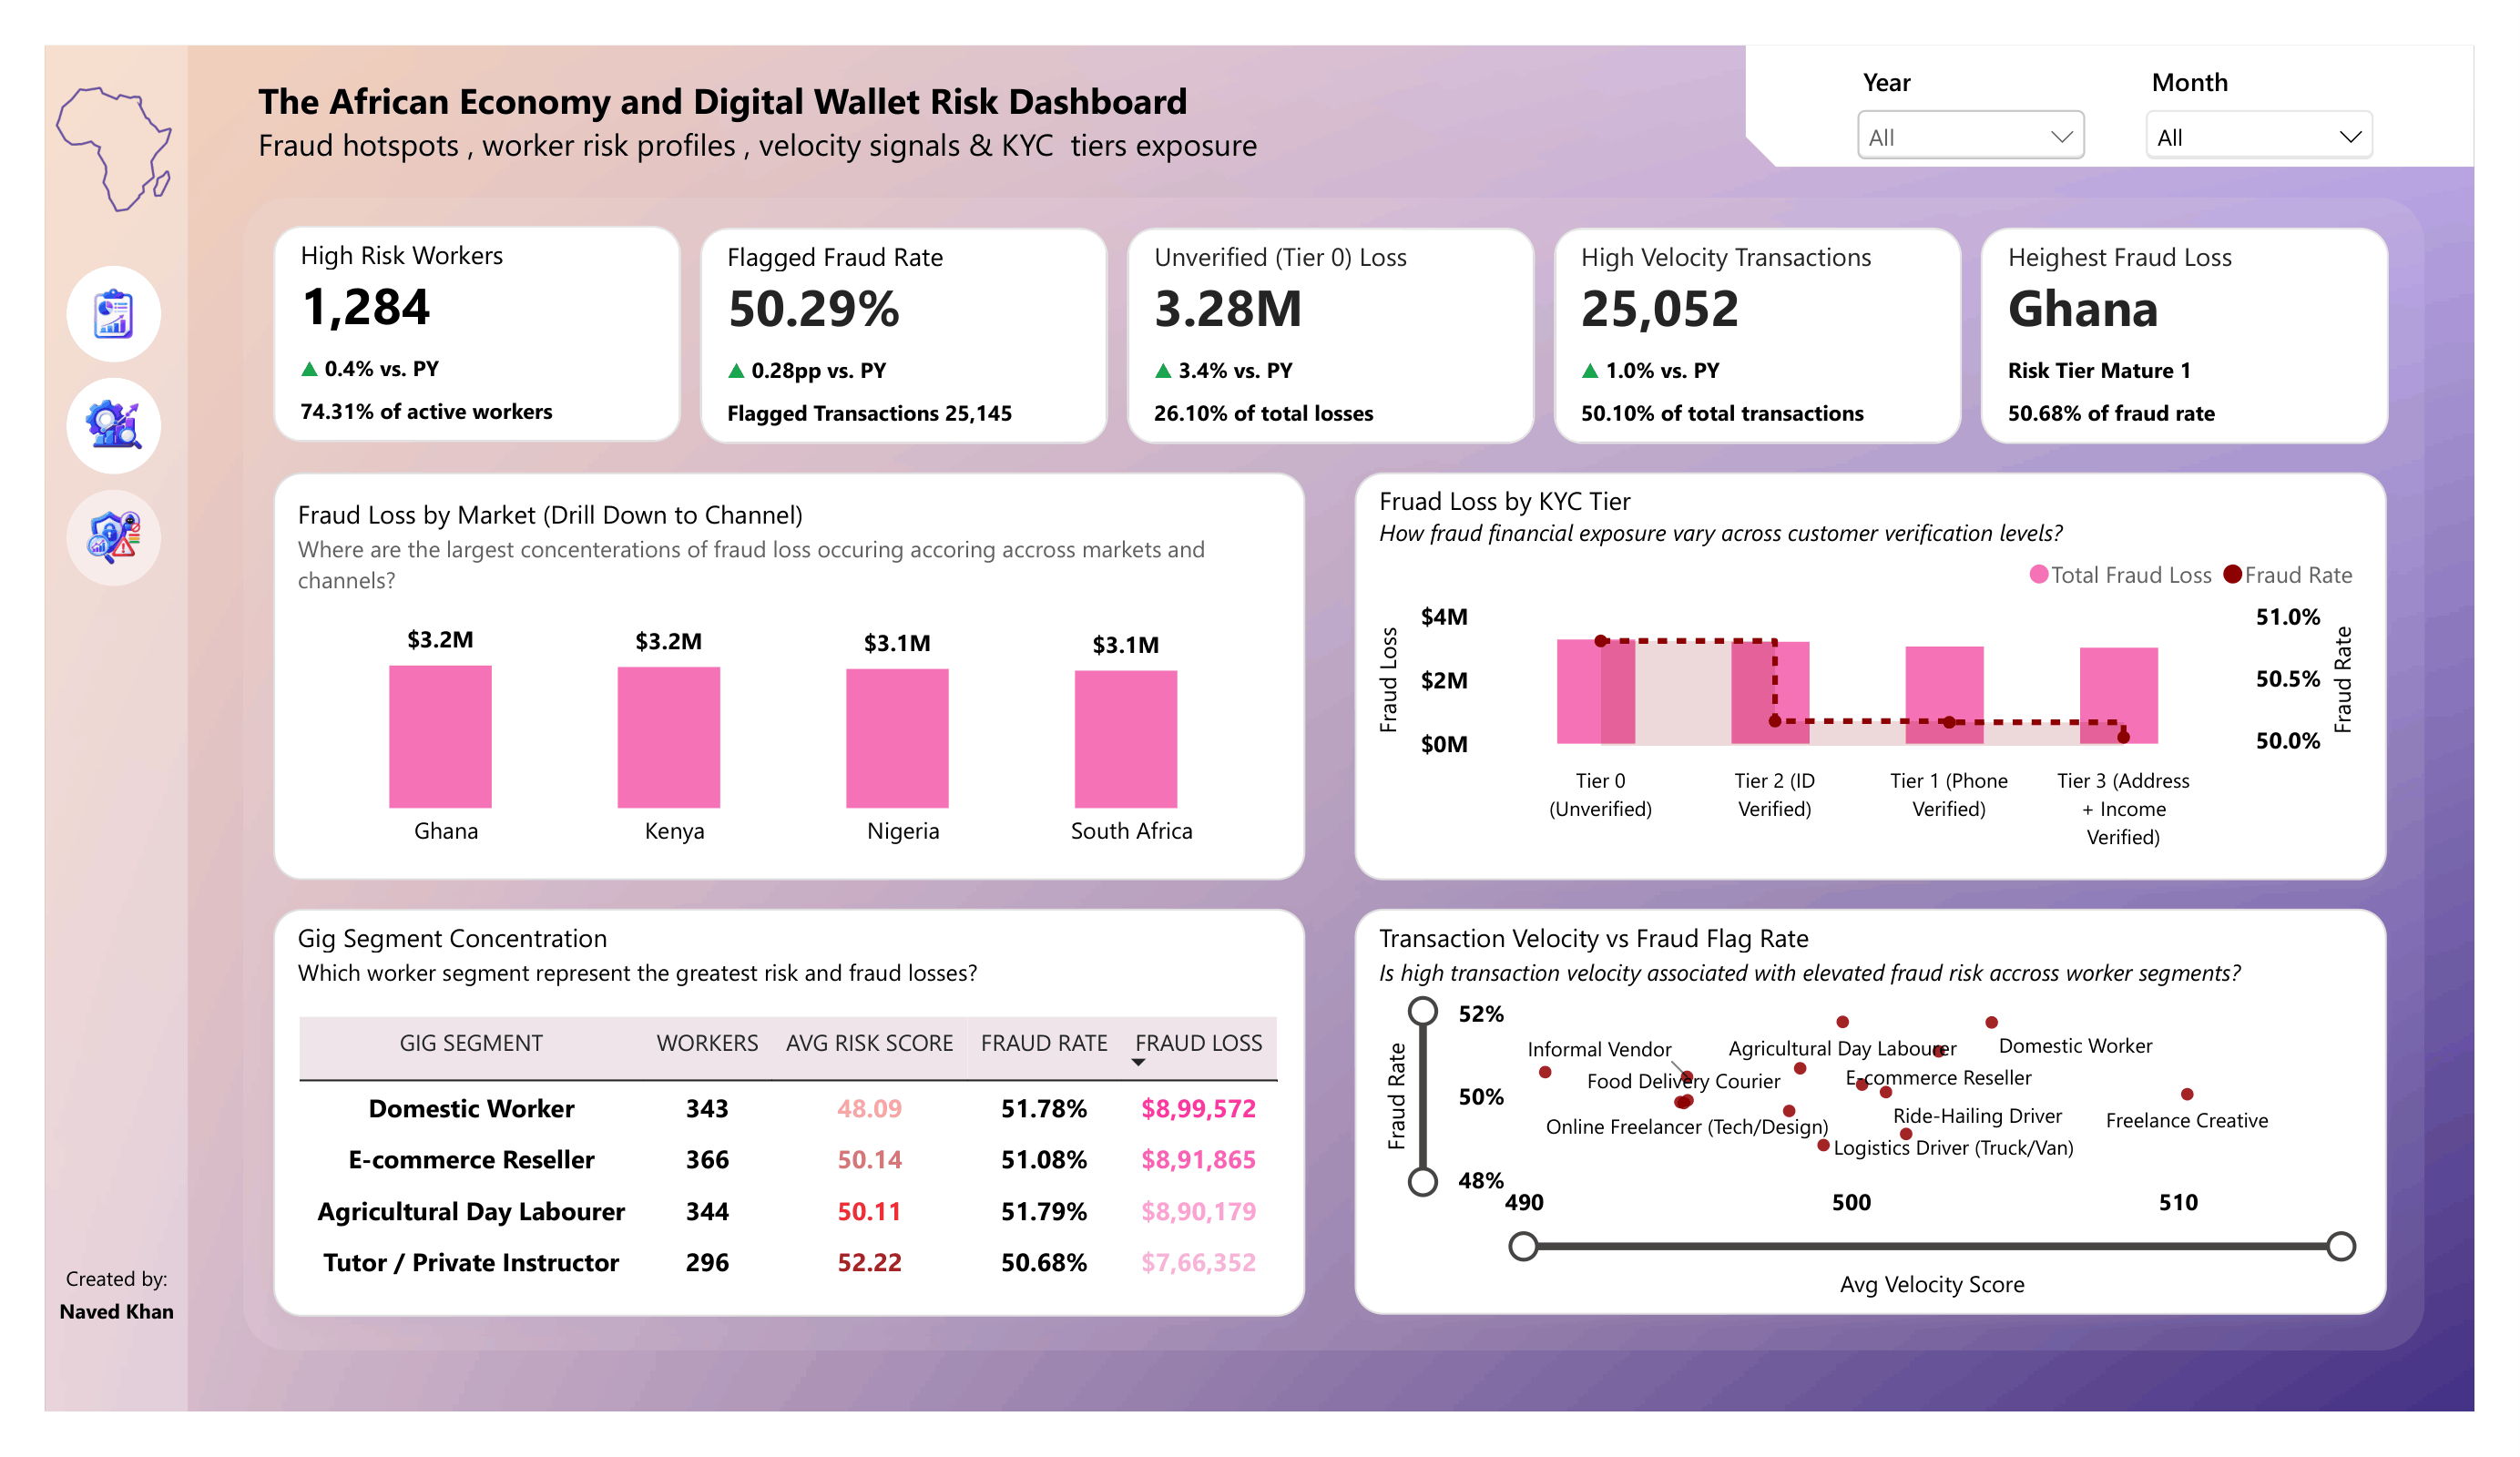

The page's visual inventory and layout, read from the dashboard file:
{"tool":"powerbi","page":{"name":"Risk Intelligence","canvas":[1280,720],"ordinal":2},"visuals":[{"type":"shape","box":[104,80,1150,608],"z":0},{"type":"cardVisual","title":"sdffgg","fields":{"Data":["merged_table.High Risk Workers Label"]},"box":[120,95,215,114],"z":1000},{"type":"cardVisual","fields":{"Data":["merged_table.Flagged Fraud Rate"]},"box":[345,96,215,114],"z":2000},{"type":"lineClusteredColumnComboChart","title":"Fruad Loss by KYC Tier","fields":{"Category":["merged_table.kyc_tier"],"Y":["Sum(merged_table.fraud_loss_usd)"],"Y2":["merged_table.Fraud Rate"]},"box":[690,225,544,215],"z":3000},{"type":"scatterChart","title":"Transaction Velocity vs Fraud Flag Rate","fields":{"Category":["merged_table.gig_segment"],"X":["Avg(merged_table.velocity_score)"],"Y":["merged_table.Fraud Rate"]},"box":[690,455,544,214],"z":4000},{"type":"tableEx","title":"Gig Segment Concentration","fields":{"Values":["merged_table.gig_segment","merged_table.worker_id","Avg(merged_table.risk_score)","merged_table.Fraud Rate","merged_table.fraud_loss_usd"]},"box":[120,455,544,215],"z":5000},{"type":"cardVisual","fields":{"Data":["merged_table.Unverified (Tier 0) Loss"]},"box":[570,96,215,114],"z":6000},{"type":"cardVisual","fields":{"Data":["merged_table.Heighest Fraud Loss"]},"box":[1020,96,215,114],"z":7000},{"type":"cardVisual","fields":{"Data":["merged_table.High Velocity Transactions Label"]},"box":[795,96,215,114],"z":8000},{"type":"shape","box":[0,0,75,720],"z":9000},{"type":"clusteredColumnChart","title":"Fraud Loss by Market (Drill Down to Channel)","fields":{"Category":["merged_table.country","merged_table.channel_type"],"Y":["Sum(merged_table.fraud_loss_usd)"]},"box":[120,225,544,215],"z":10000},{"type":"textbox","box":[112,16,528,64],"z":11000},{"type":"textbox","box":[0,640,75,45],"z":12000},{"type":"image","box":[4,15,64,80],"z":13000},{"type":"pageNavigator","box":[11,116,50,170],"z":14000},{"type":"image","box":[12,125,48,34],"z":15000},{"type":"image","box":[12,183,48,34],"z":16000},{"type":"image","box":[11,242,48,34],"z":17000},{"type":"shape","box":[896,0,384,64],"z":18000},{"type":"slicer","fields":{"Values":["DateTable.Year"]},"box":[950,10,130,50],"z":19000},{"type":"slicer","fields":{"Values":["DateTable.Month"]},"box":[1102,10,130,50],"z":20000}]}

Visuals, with their boxes on the page's 1280x720 design canvas (x1, y1, x2, y2). These are canvas units, not pixel positions in the 2520x1457 screenshot, which may show the page scaled, cropped or inside an application window:
shape: bbox=(104, 80, 1254, 688)
"sdffgg" cardVisual: bbox=(120, 95, 335, 209)
cardVisual - merged_table.Flagged Fraud Rate: bbox=(345, 96, 560, 210)
"Fruad Loss by KYC Tier" lineClusteredColumnComboChart: bbox=(690, 225, 1234, 440)
"Transaction Velocity vs Fraud Flag Rate" scatterChart: bbox=(690, 455, 1234, 669)
"Gig Segment Concentration" tableEx: bbox=(120, 455, 664, 670)
cardVisual - merged_table.Unverified (Tier 0) Loss: bbox=(570, 96, 785, 210)
cardVisual - merged_table.Heighest Fraud Loss: bbox=(1020, 96, 1235, 210)
cardVisual - merged_table.High Velocity Transactions Label: bbox=(795, 96, 1010, 210)
shape: bbox=(0, 0, 75, 720)
"Fraud Loss by Market (Drill Down to Channel)" clusteredColumnChart: bbox=(120, 225, 664, 440)
textbox: bbox=(112, 16, 640, 80)
textbox: bbox=(0, 640, 75, 685)
image: bbox=(4, 15, 68, 95)
pageNavigator: bbox=(11, 116, 61, 286)
image: bbox=(12, 125, 60, 159)
image: bbox=(12, 183, 60, 217)
image: bbox=(11, 242, 59, 276)
shape: bbox=(896, 0, 1280, 64)
slicer - DateTable.Year: bbox=(950, 10, 1080, 60)
slicer - DateTable.Month: bbox=(1102, 10, 1232, 60)
